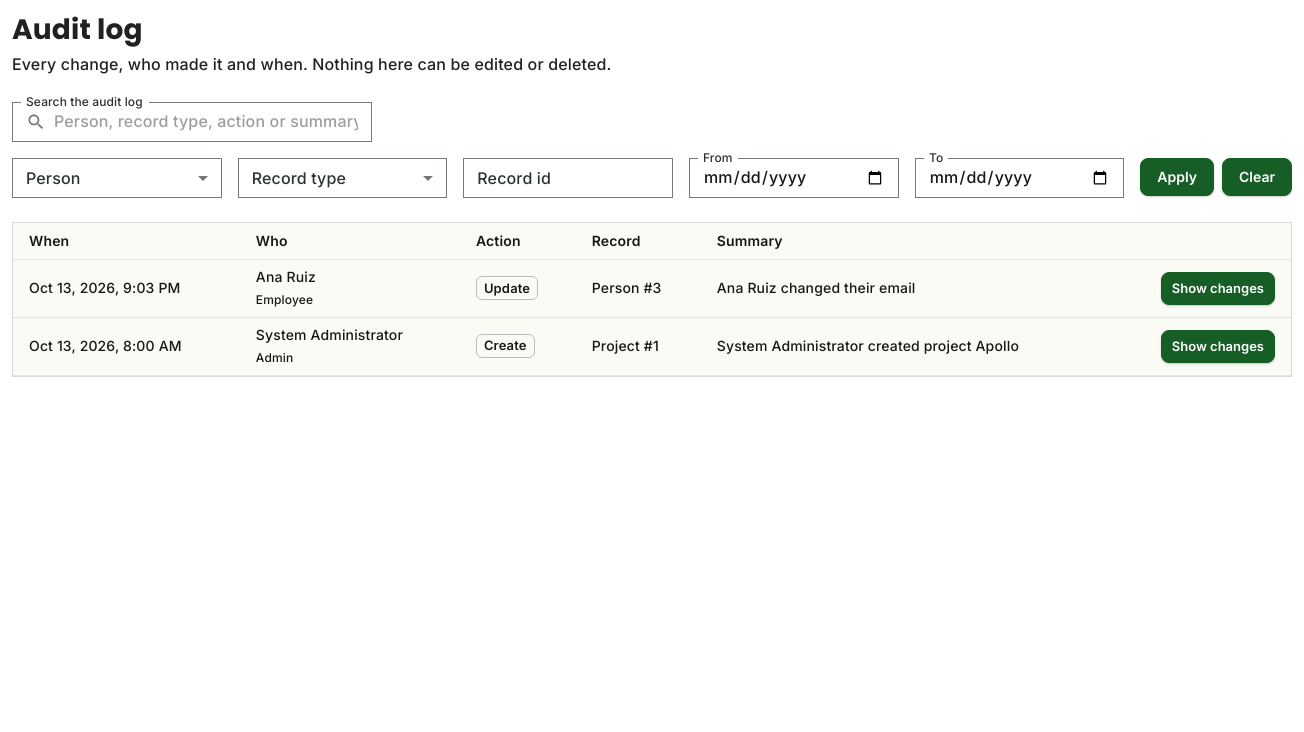
Scenario: AuditLogPage › shows a created record as its starting values
The width and height of the screenshot is (1304, 732).
Click the button "Show changes" in the row of "Oct 13, 2026, 8:00 AM". click: (1218, 346)
box: 1161,330 -> 1275,363
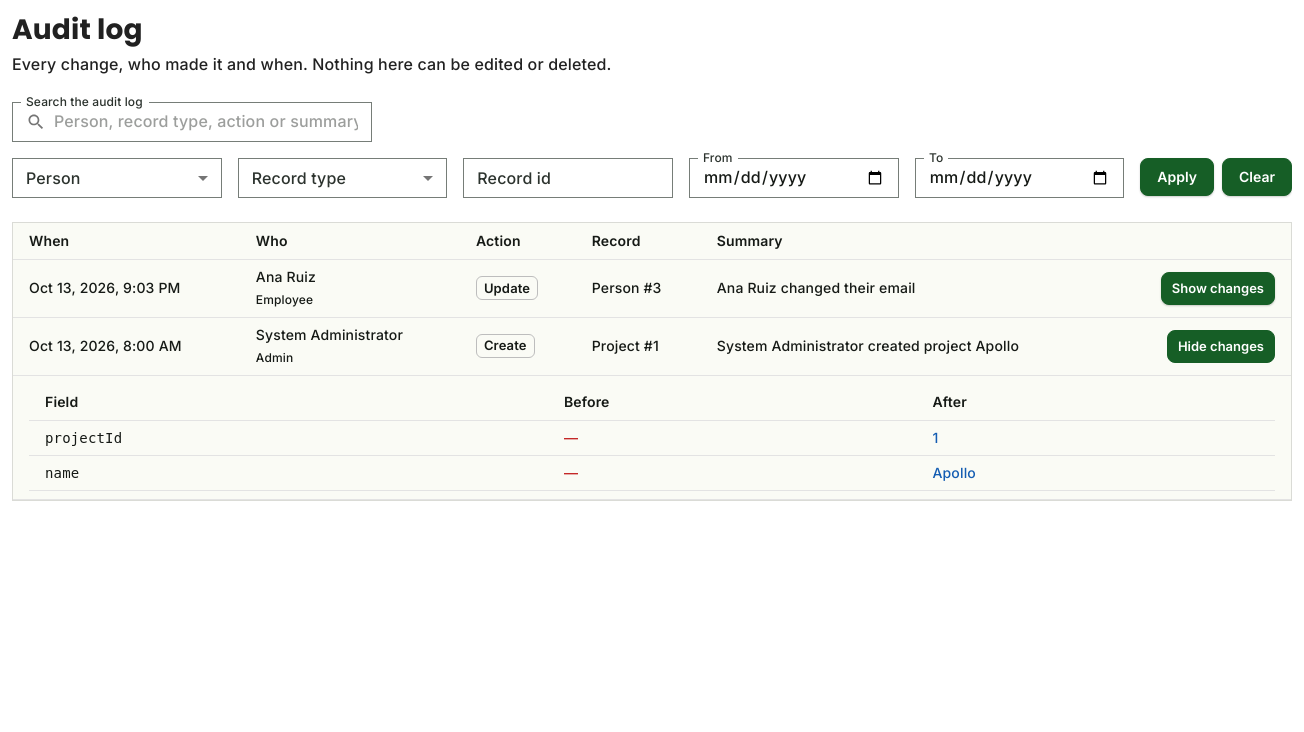
Check: the text "Apollo" is shown, box 916,455 -> 1275,491
